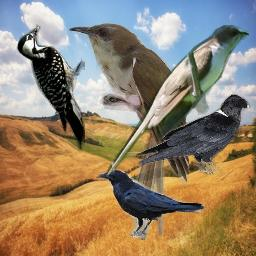Crow: (133, 94, 252, 178), (95, 169, 206, 239)
Cuckoo: (68, 21, 189, 240), (104, 25, 249, 179)
Woodpecker: (16, 24, 85, 152)
